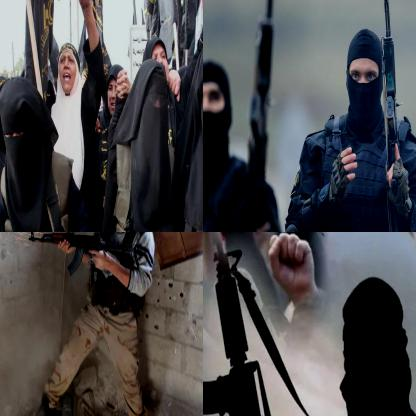rifle: (203, 235, 280, 415), (375, 0, 404, 231), (23, 232, 137, 283)
